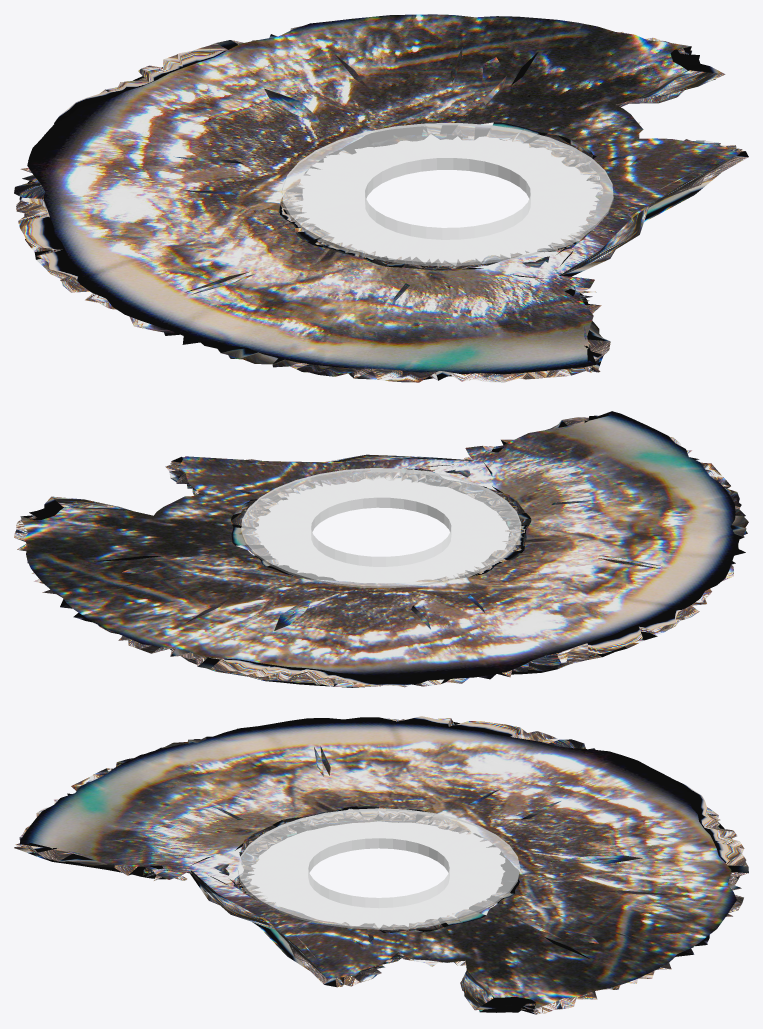
File: cd-broken.obj
3 views of the same model, one above another, from view 1: azimuth 30°, elevation 25°; view 2: azimuth 150°, elevation 25°; view 3: azimuth 270°, elevation 25° (orthographic). The views are drawn at different scales.
Visible parts, largest first — view 1: Cylinder.002, Cylinder.003; view 2: Cylinder.002, Cylinder.003; view 3: Cylinder.002, Cylinder.003.
Part boxes in pixels (left/top/right/bottom): Cylinder.002: left=14, top=14, right=748, bottom=382; Cylinder.003: left=282, top=123, right=613, bottom=266; Cylinder.002: left=14, top=411, right=748, bottom=687; Cylinder.003: left=241, top=468, right=521, bottom=588; Cylinder.002: left=14, top=716, right=748, bottom=1014; Cylinder.003: left=237, top=808, right=520, bottom=929.
Size of the model in its own units: 1.99 by 0.032 by 2.08.
2 materials, 1 textured.
